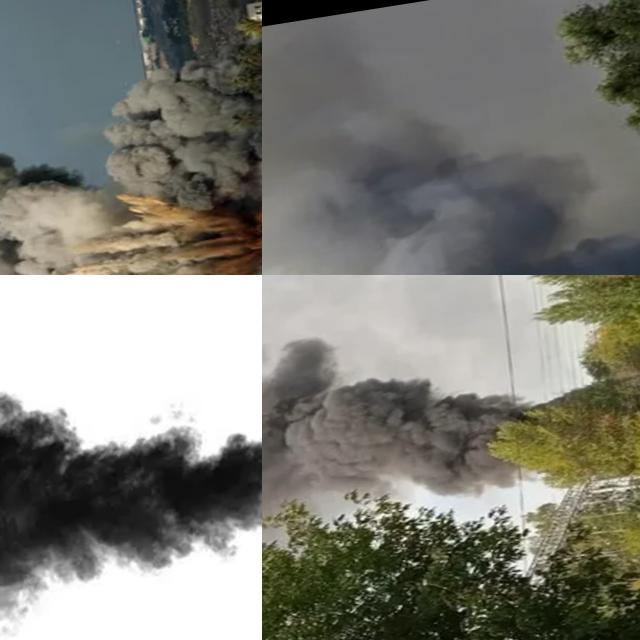smoke: (0, 322, 262, 640), (262, 298, 535, 562), (262, 96, 640, 275), (0, 35, 262, 275)
